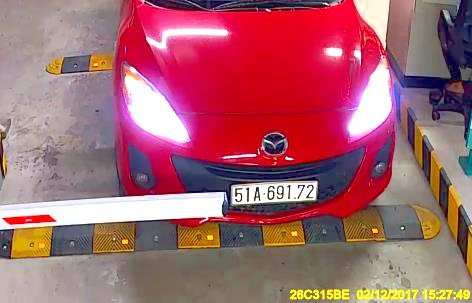plate: (229, 180, 314, 202)
